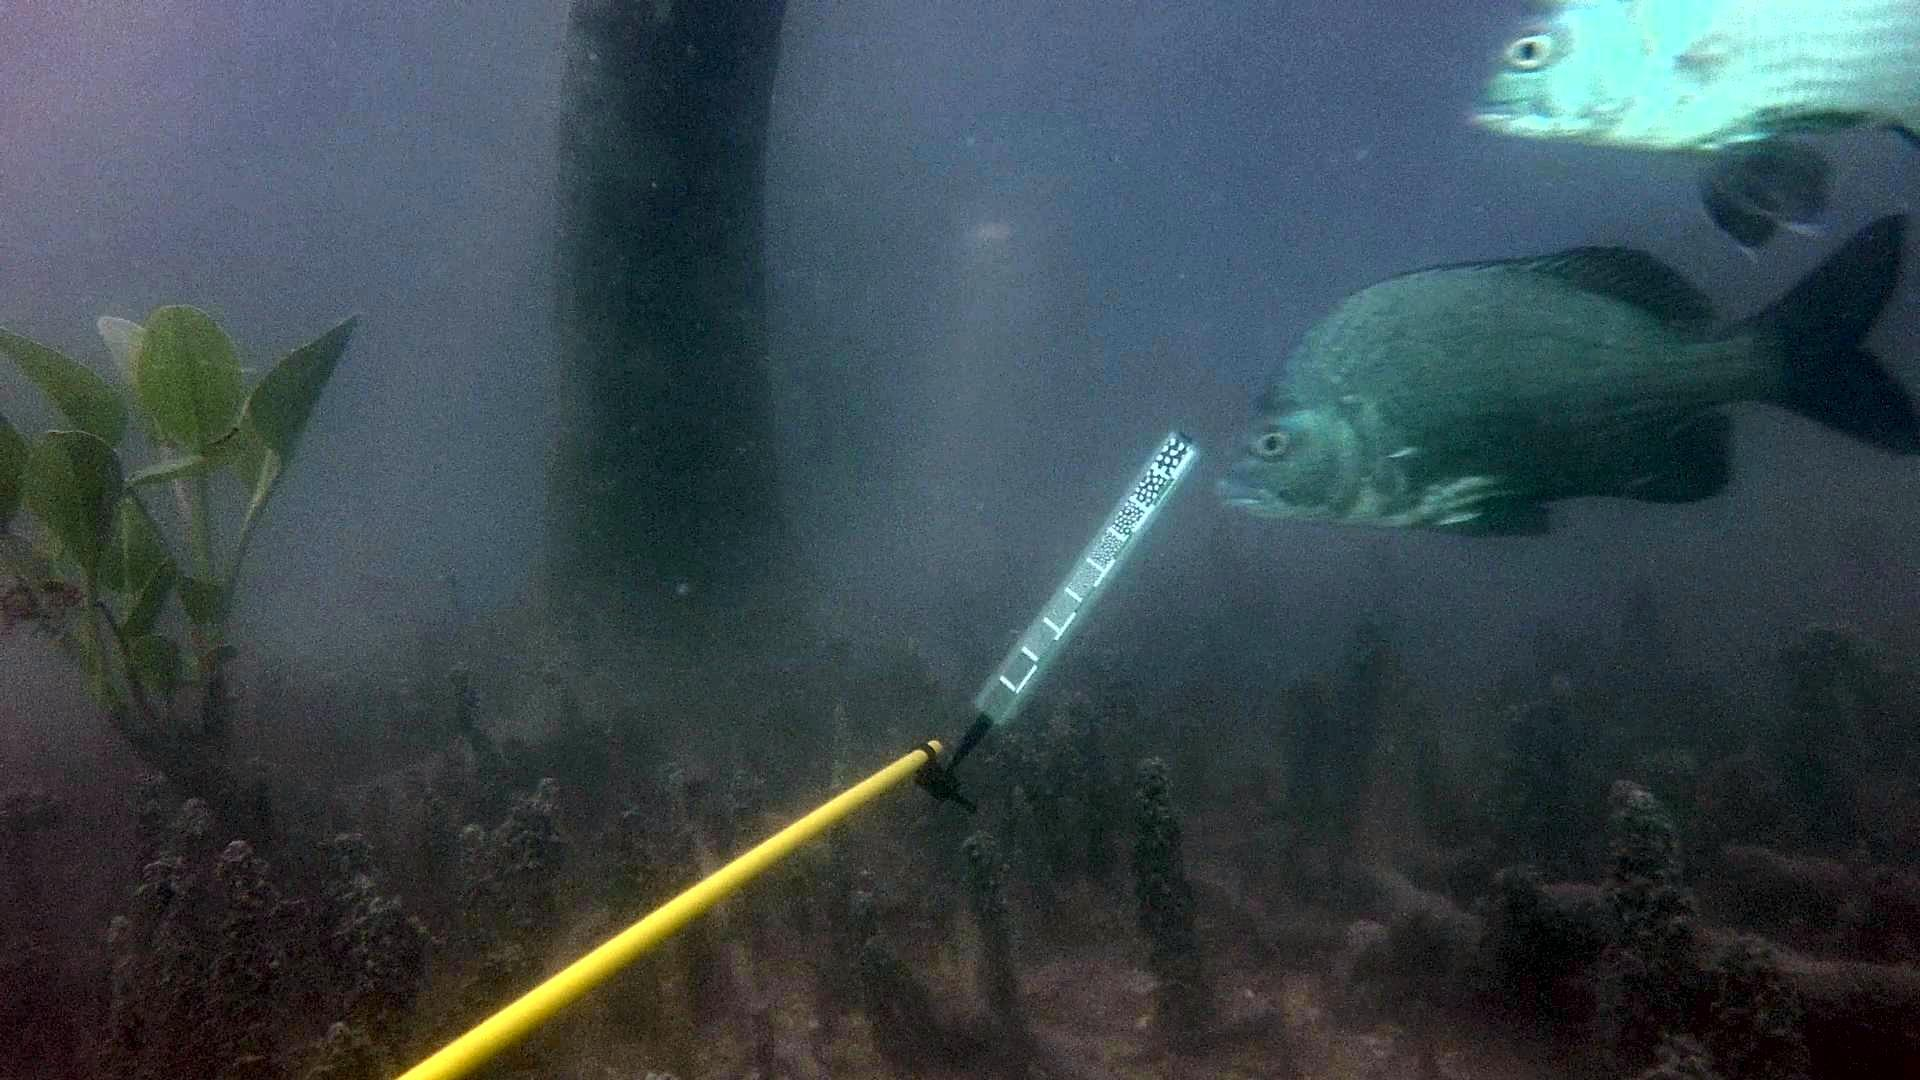acanthopagrus palmaris: (1220, 204, 1920, 549), (1473, 0, 1920, 248)
